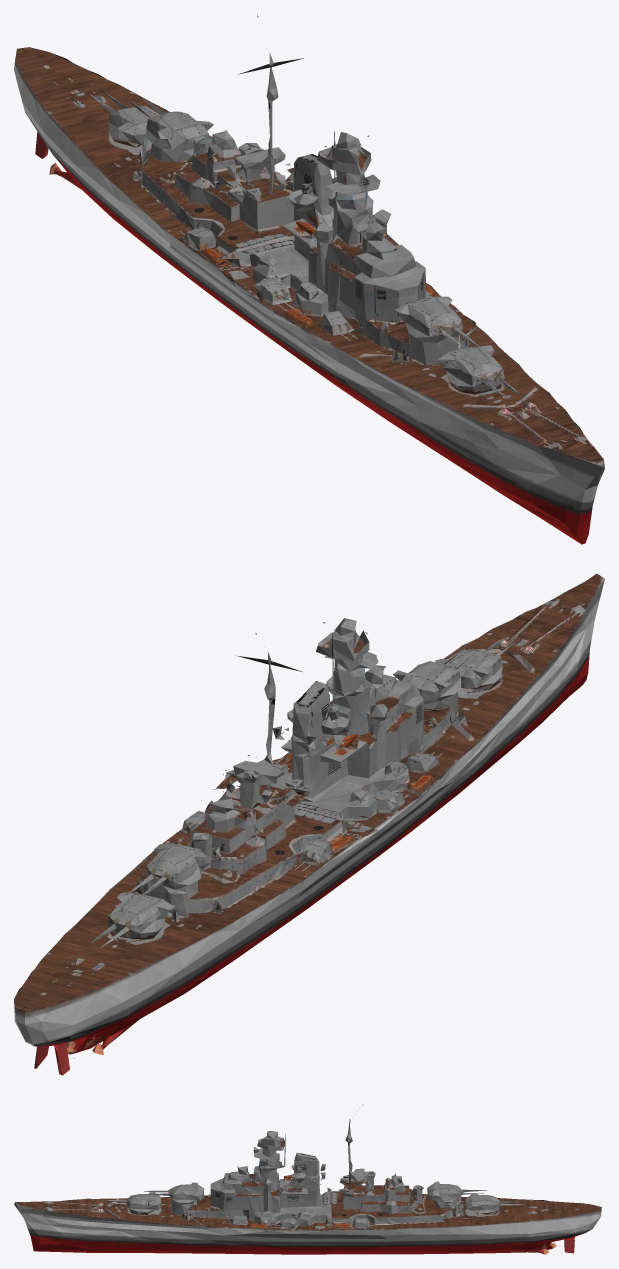
Rendered from battleship.glb.
3 renders of one model, top to bottom at view 1: azimuth 30°, elevation 25°; view 2: azimuth 150°, elevation 25°; view 3: azimuth 270°, elevation 25°, orthographic. The views are drawn at different scales.
Parts seen in each view (by area): view 1: battleship; view 2: battleship; view 3: battleship.
Boxes of the visible parts, box(x1,y1,x2,y2) form: battleship: box(14, 14, 604, 544); battleship: box(14, 573, 604, 1075); battleship: box(14, 1104, 601, 1254).
Bounding box in the file's own units: 36.19 × 69.08 × 251.
Materials: 2 (2 with a texture image).
